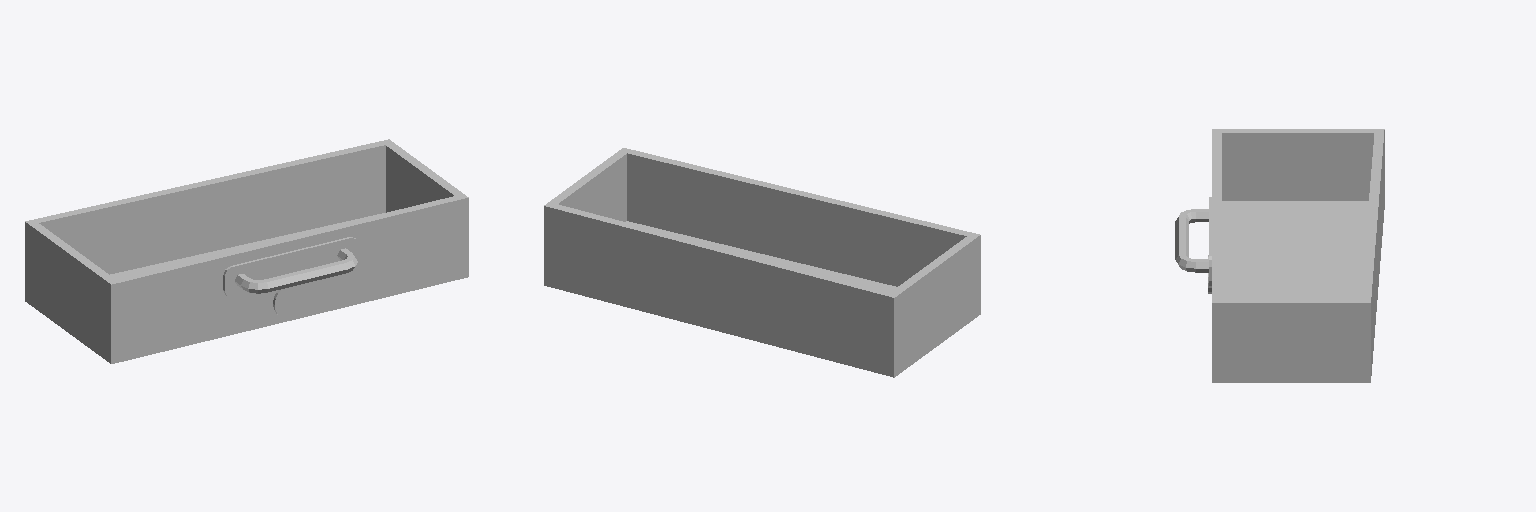
Rendered from Gimmick_Drawer01_Feather.obj.
The picture shows the model from 3 angles: view 1: azimuth 30°, elevation 25°; view 2: azimuth 150°, elevation 25°; view 3: azimuth 270°, elevation 25°; orthographic projection.
Parts seen in each view (by area): view 1: Gimmick_Drawer01_Feather Gimmick; view 2: Gimmick_Drawer01_Feather Gimmick; view 3: Gimmick_Drawer01_Feather Gimmick.
Part boxes in pixels (left/top/right/bottom): Gimmick_Drawer01_Feather Gimmick: left=25, top=139, right=468, bottom=363; Gimmick_Drawer01_Feather Gimmick: left=544, top=148, right=980, bottom=377; Gimmick_Drawer01_Feather Gimmick: left=1175, top=129, right=1384, bottom=382.
Size of the model in its own units: 61 by 13 by 30.91.